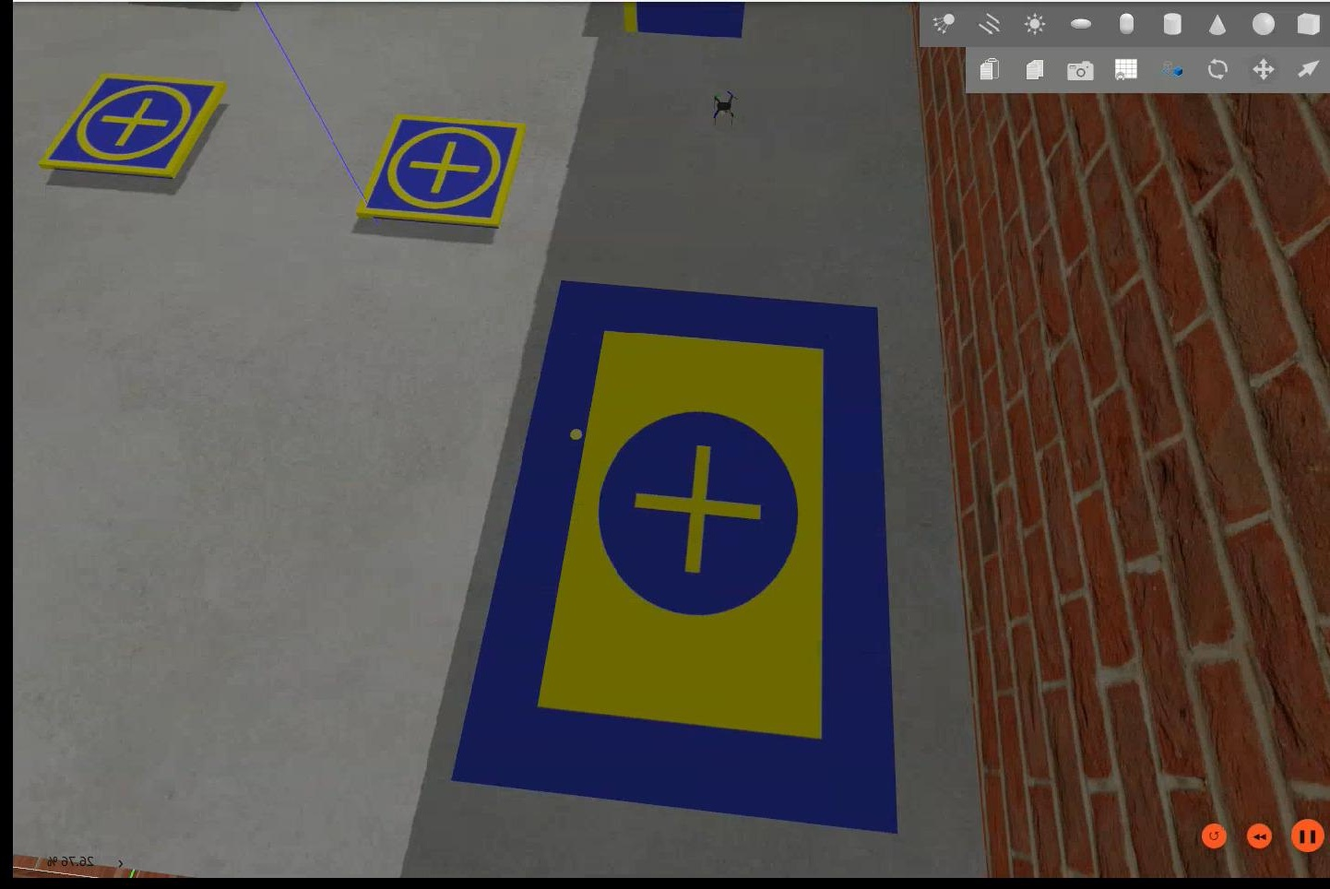large_base: (446, 284, 901, 832)
small_base: (36, 74, 220, 182), (352, 117, 525, 229)
